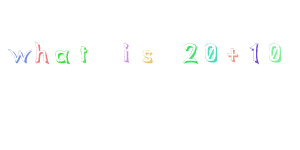+: (223, 41, 242, 69)
0: (265, 33, 289, 69), (201, 38, 222, 69)
1: (242, 33, 266, 68)
2: (174, 35, 203, 70)
a: (51, 43, 75, 69)
h: (31, 35, 54, 68)
i: (113, 36, 139, 71)
s: (136, 42, 163, 71)
t: (75, 41, 94, 69)
w: (2, 36, 33, 67)
